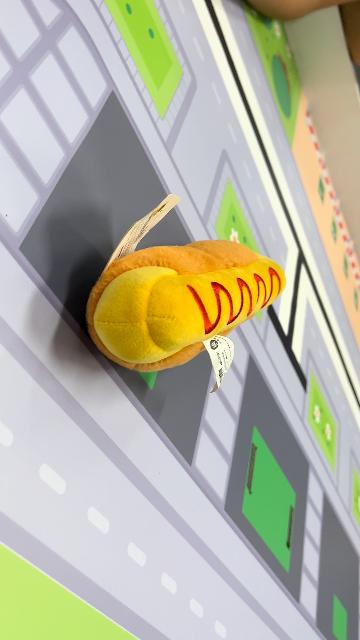hotdog: (86, 238, 288, 374)
